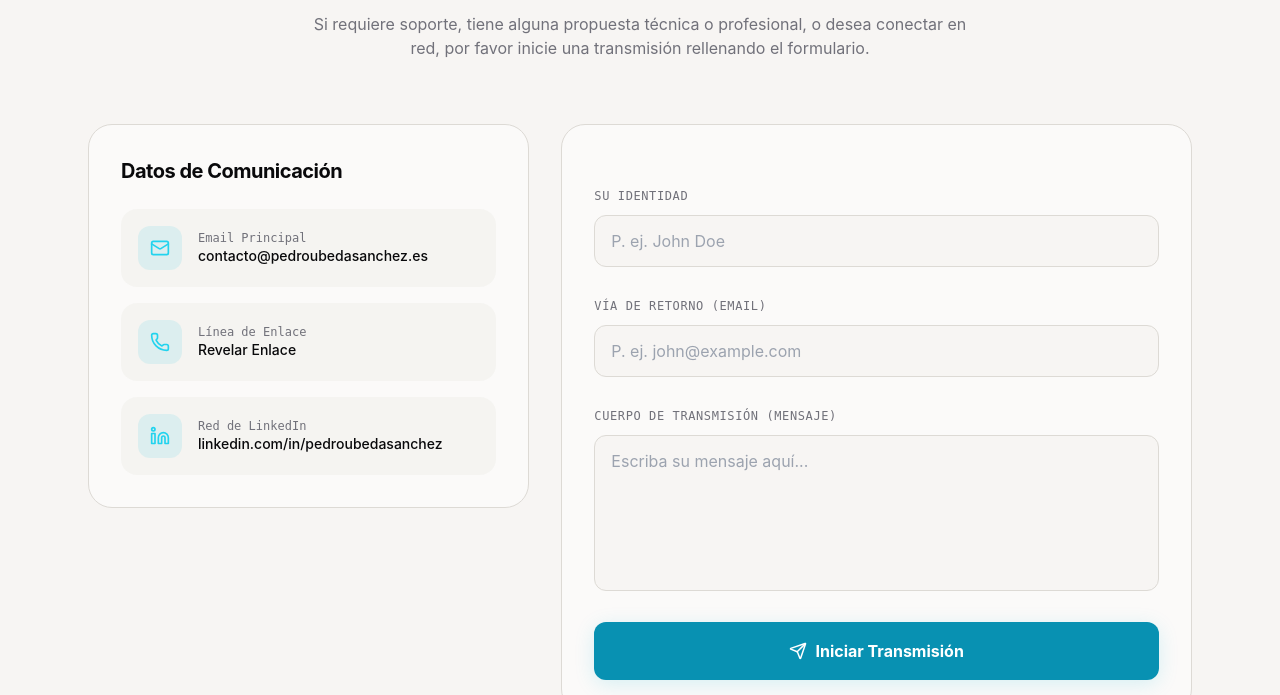
ContactForm Component › shows validation errors when fields are empty
(page scrolled)
Click the button "Iniciar Transmisión". click: (877, 651)
box: [594,622,1159,680]
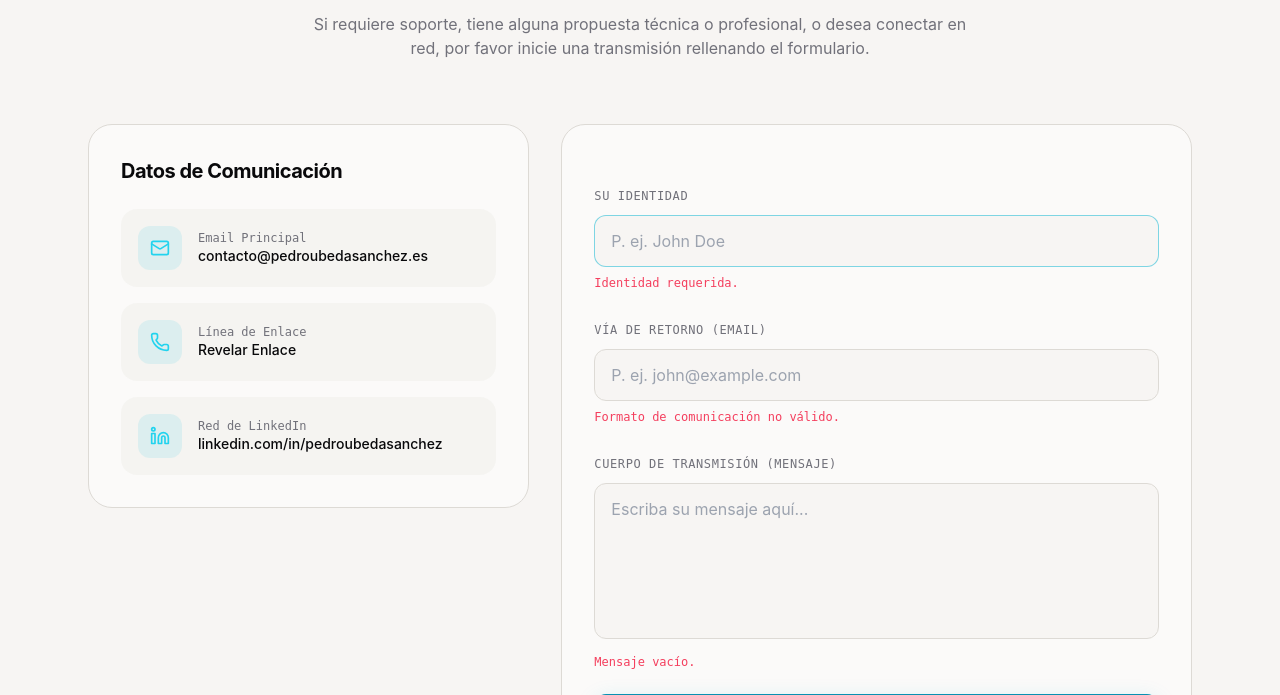
Expected: the text "Identidad requerida." is shown, [594,276,739,290]
Expected: the text "Formato de comunicación no válido." is shown, [594,410,840,424]
Expected: the text "Mensaje vacío." is shown, [594,655,696,669]
